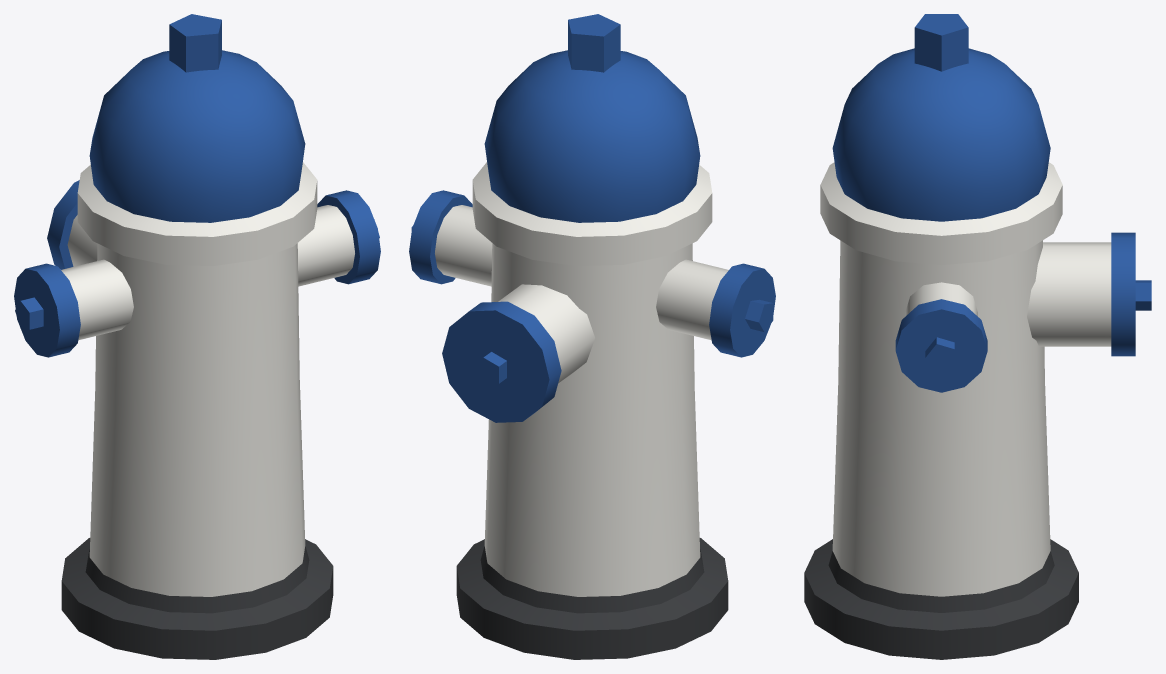
Rendered from hydrant.glb.
The picture shows the model from 3 angles, left to right: view 1: azimuth 30°, elevation 25°; view 2: azimuth 150°, elevation 25°; view 3: azimuth 270°, elevation 25°; orthographic projection.
Parts seen in each view (by area): view 1: body; view 2: body; view 3: body.
Boxes of the visible parts, x1,y1,x2,y2 form: body: (14, 14, 380, 659); body: (409, 14, 775, 659); body: (804, 14, 1151, 659).
Size of the model in its own units: 0.5 by 0.79 by 0.43.
